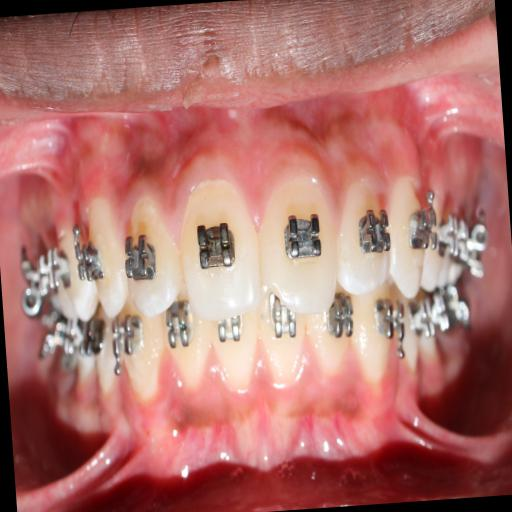correct_brace: (195, 208, 242, 280), (278, 204, 328, 267), (354, 203, 391, 261), (126, 224, 160, 280), (74, 234, 102, 290), (409, 207, 439, 249)
incorrect_brace: (120, 183, 184, 328), (336, 168, 392, 298)
